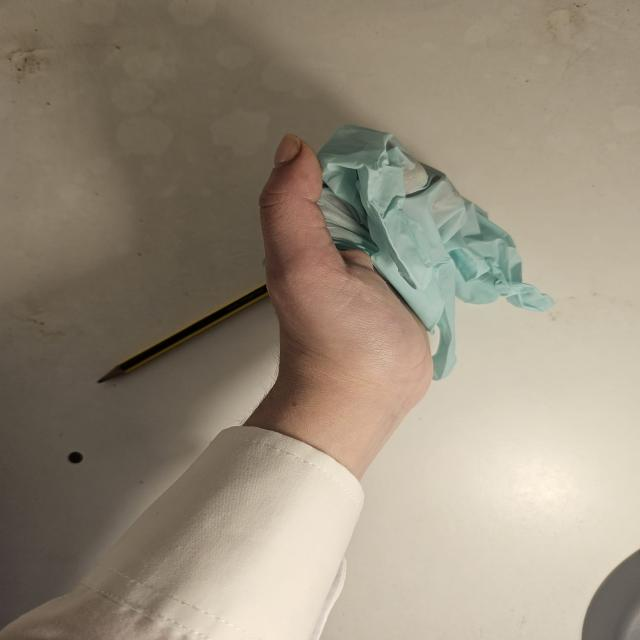glove_partial: (253, 122, 559, 388)
